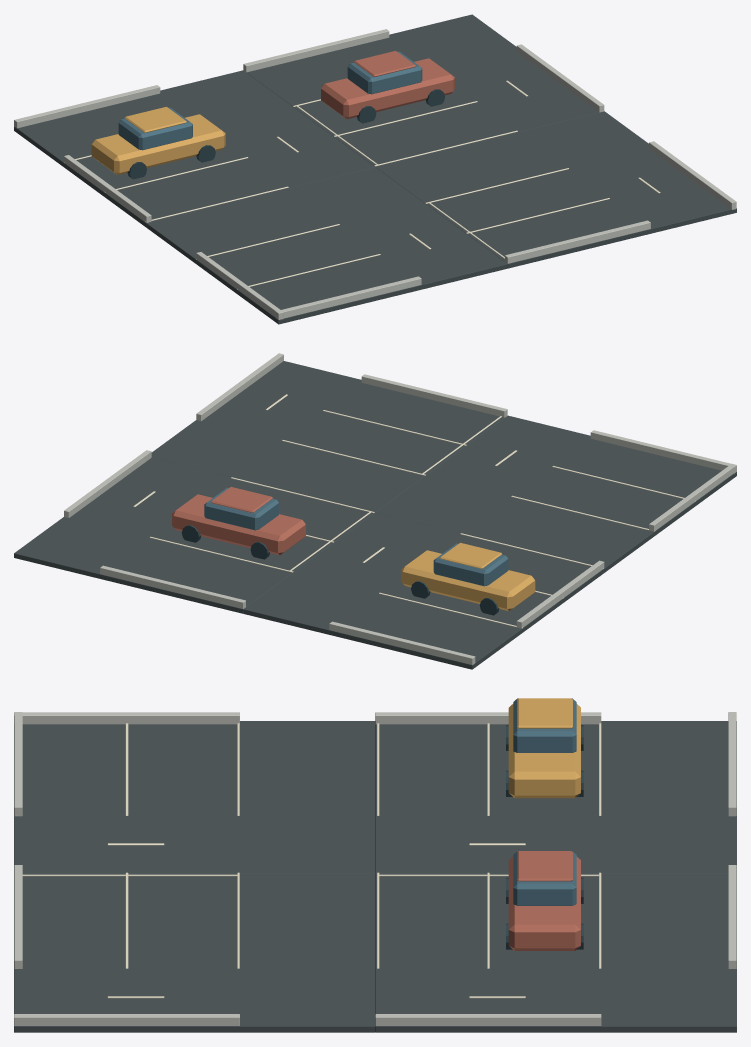
The model's file is parking-medium-4x4.glb.
3 views of the same model, one above another, from view 1: azimuth 30°, elevation 25°; view 2: azimuth 150°, elevation 25°; view 3: azimuth 270°, elevation 25° (orthographic). The views are drawn at different scales.
Parts seen in each view (by area): view 1: FacilityCombinedMesh; view 2: FacilityCombinedMesh; view 3: FacilityCombinedMesh.
Part boxes in pixels (x1,y1,x2,y2): FacilityCombinedMesh: (14, 14, 736, 324); FacilityCombinedMesh: (14, 353, 736, 669); FacilityCombinedMesh: (14, 698, 736, 1032).
Bounding box in the file's own units: 16 × 1.54 × 16.
